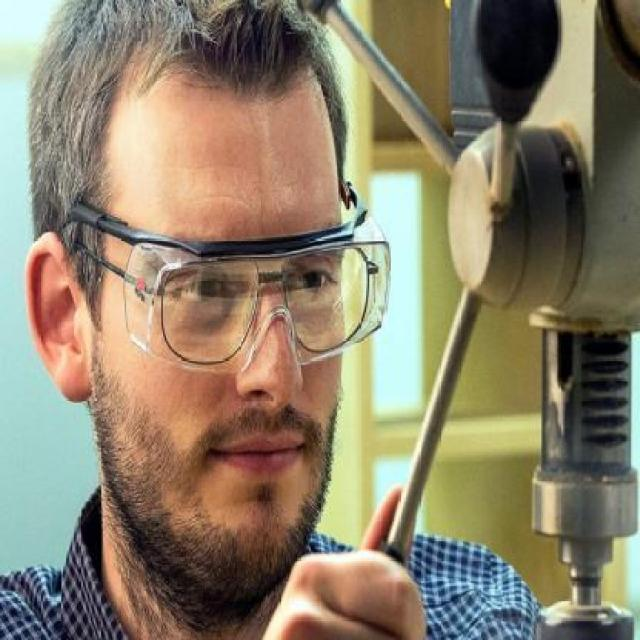Goggles: (28, 174, 439, 380)
